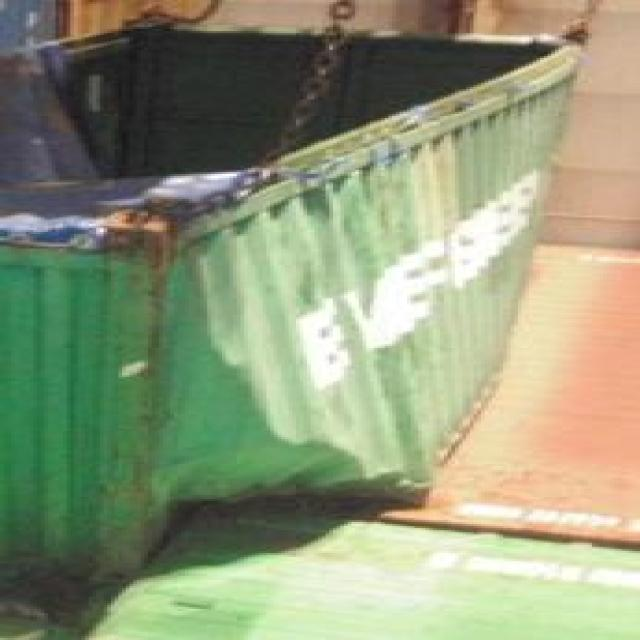dent: (164, 231, 449, 544)
